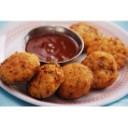cutlet: (89, 35, 128, 70), (84, 51, 118, 91), (1, 50, 38, 83), (31, 64, 63, 96), (61, 64, 92, 97), (72, 21, 100, 46)
